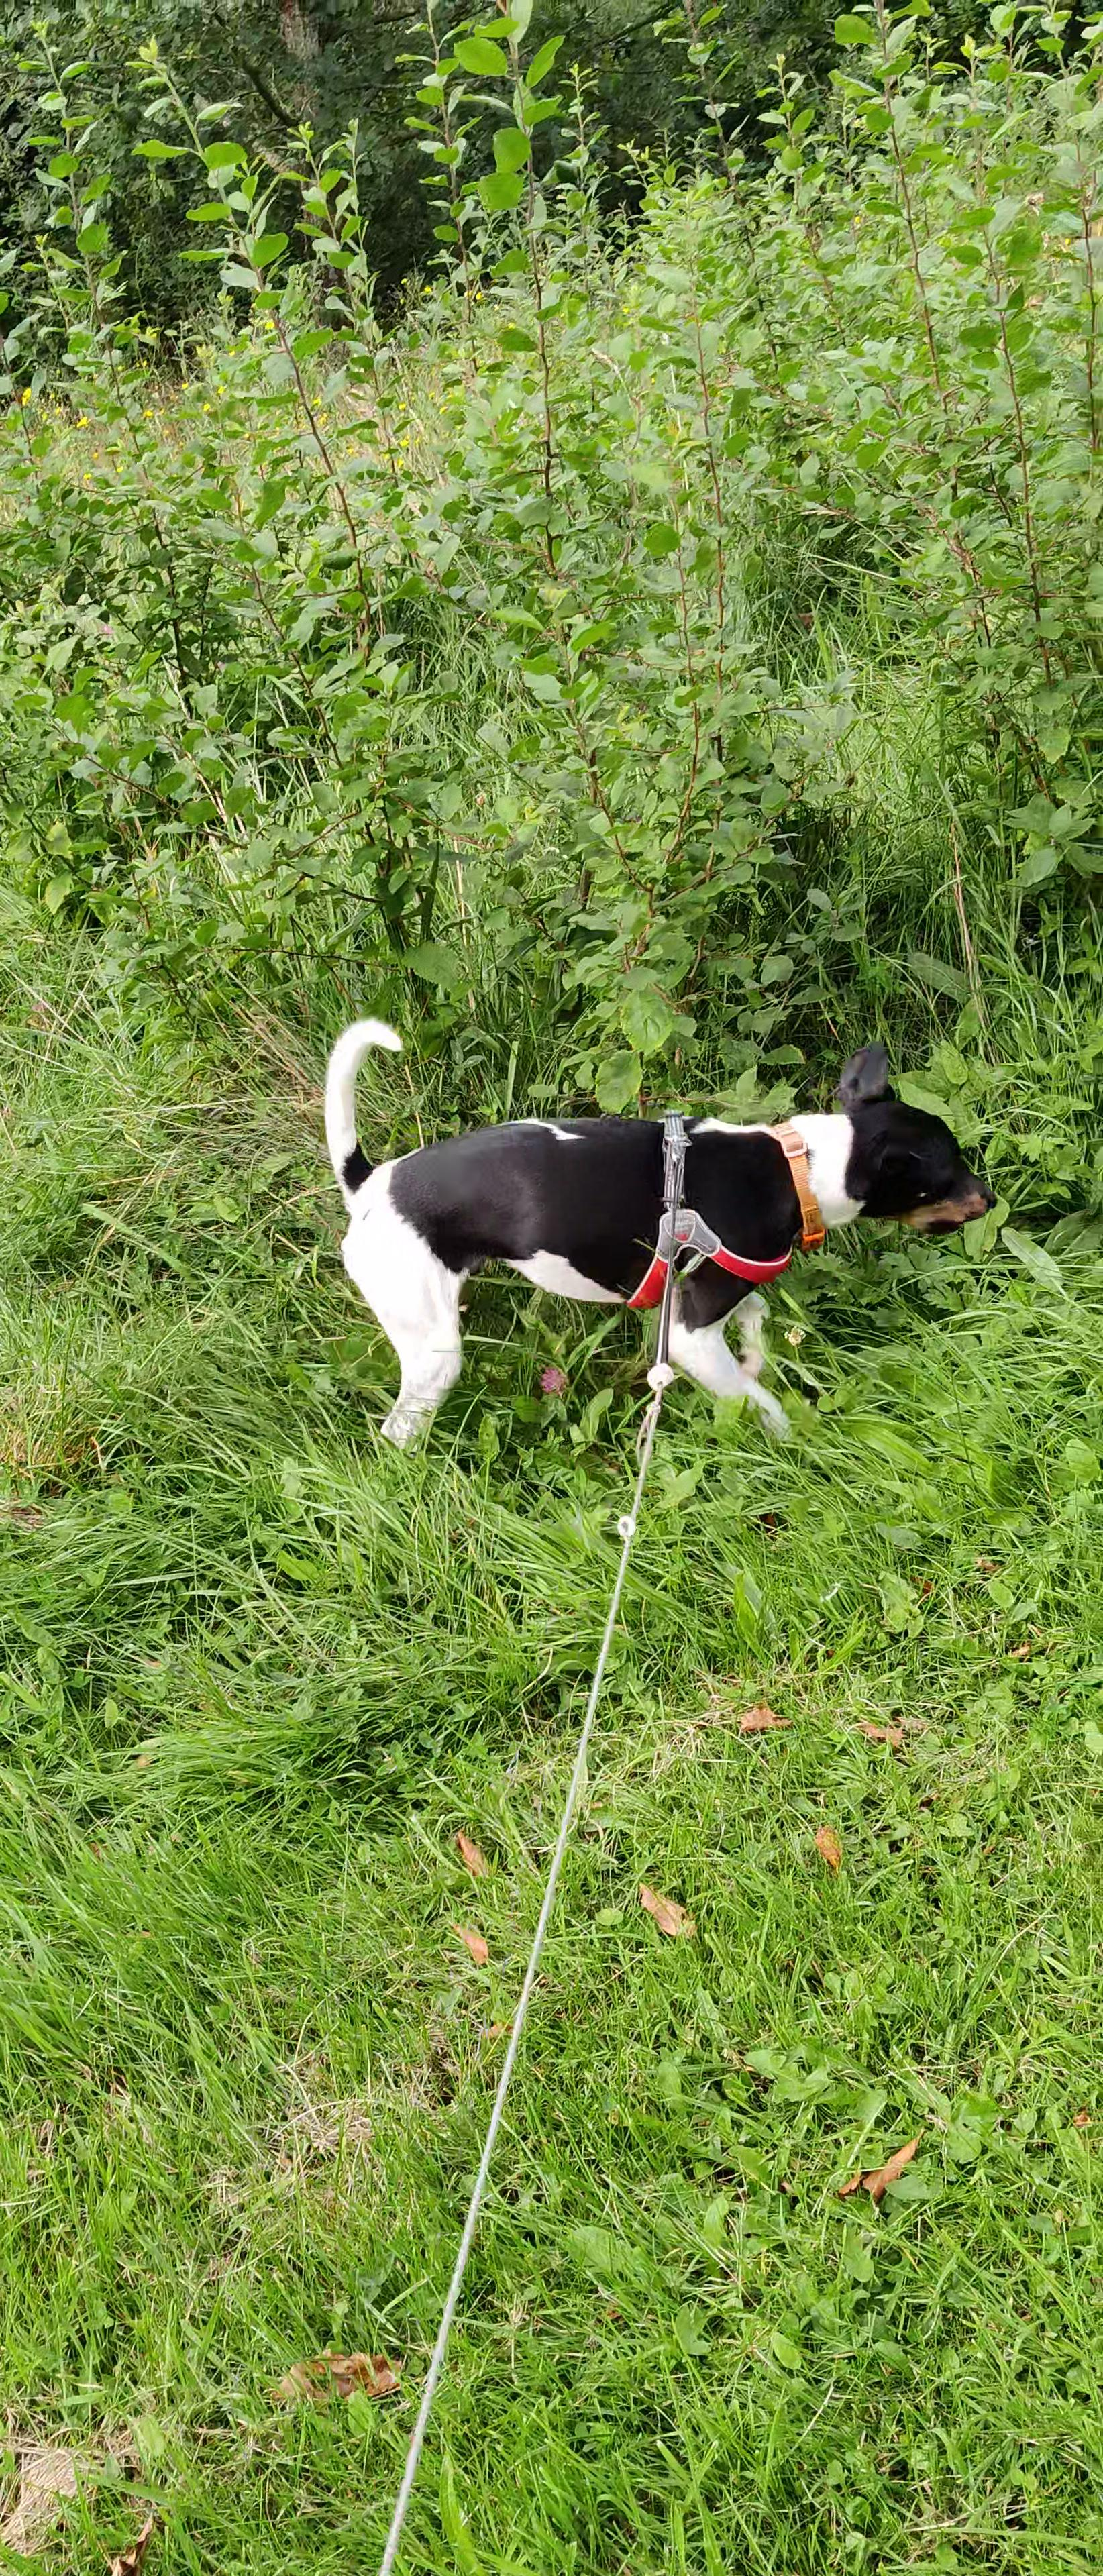Dog: (304, 1002, 1008, 1456)
